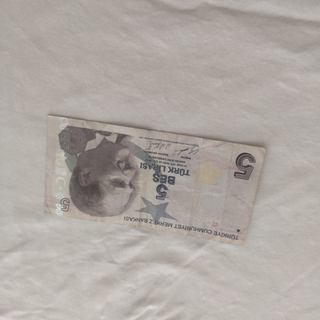5TLFront: (43, 114, 266, 247)
